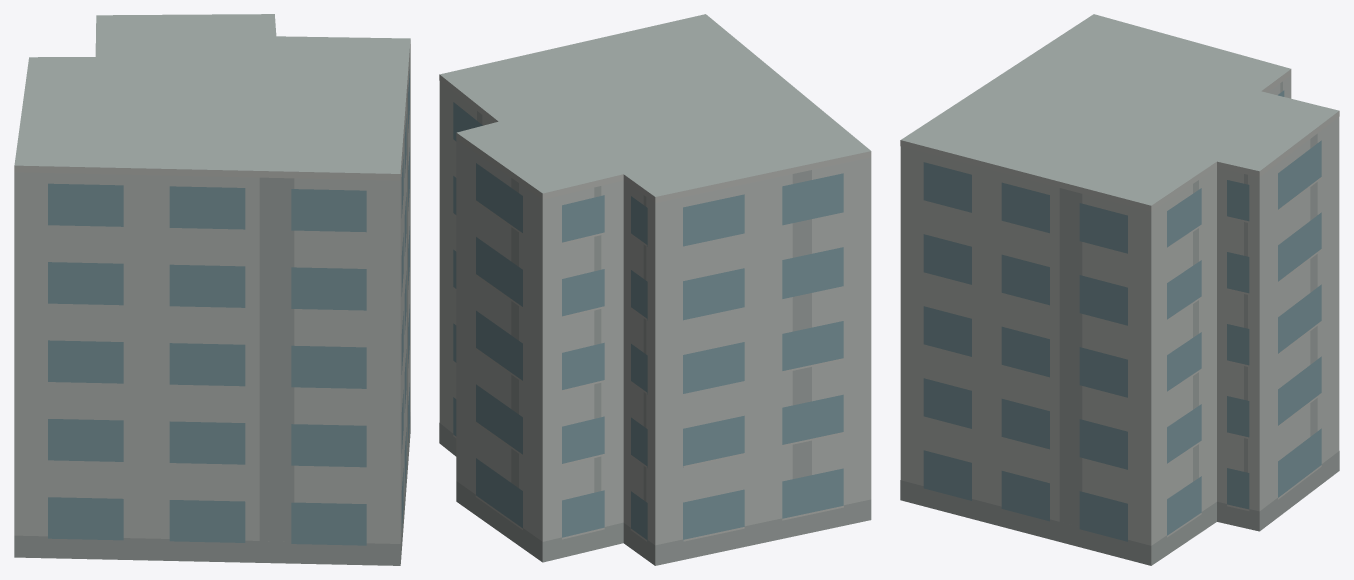
File: survey-upis-32794045.glb
3 views of the same model, side by side, from view 1: azimuth 30°, elevation 25°; view 2: azimuth 150°, elevation 25°; view 3: azimuth 270°, elevation 25° (orthographic). The views are drawn at different scales.
Visible parts, largest first — view 1: survey-upis-32794045.tmp; view 2: survey-upis-32794045.tmp; view 3: survey-upis-32794045.tmp.
Boxes of the visible parts, x1,y1,x2,y2 form: survey-upis-32794045.tmp: (14, 14, 410, 565); survey-upis-32794045.tmp: (439, 14, 871, 565); survey-upis-32794045.tmp: (900, 14, 1339, 565).
Size of the model in its own units: 16.33 by 14.3 by 15.8.
